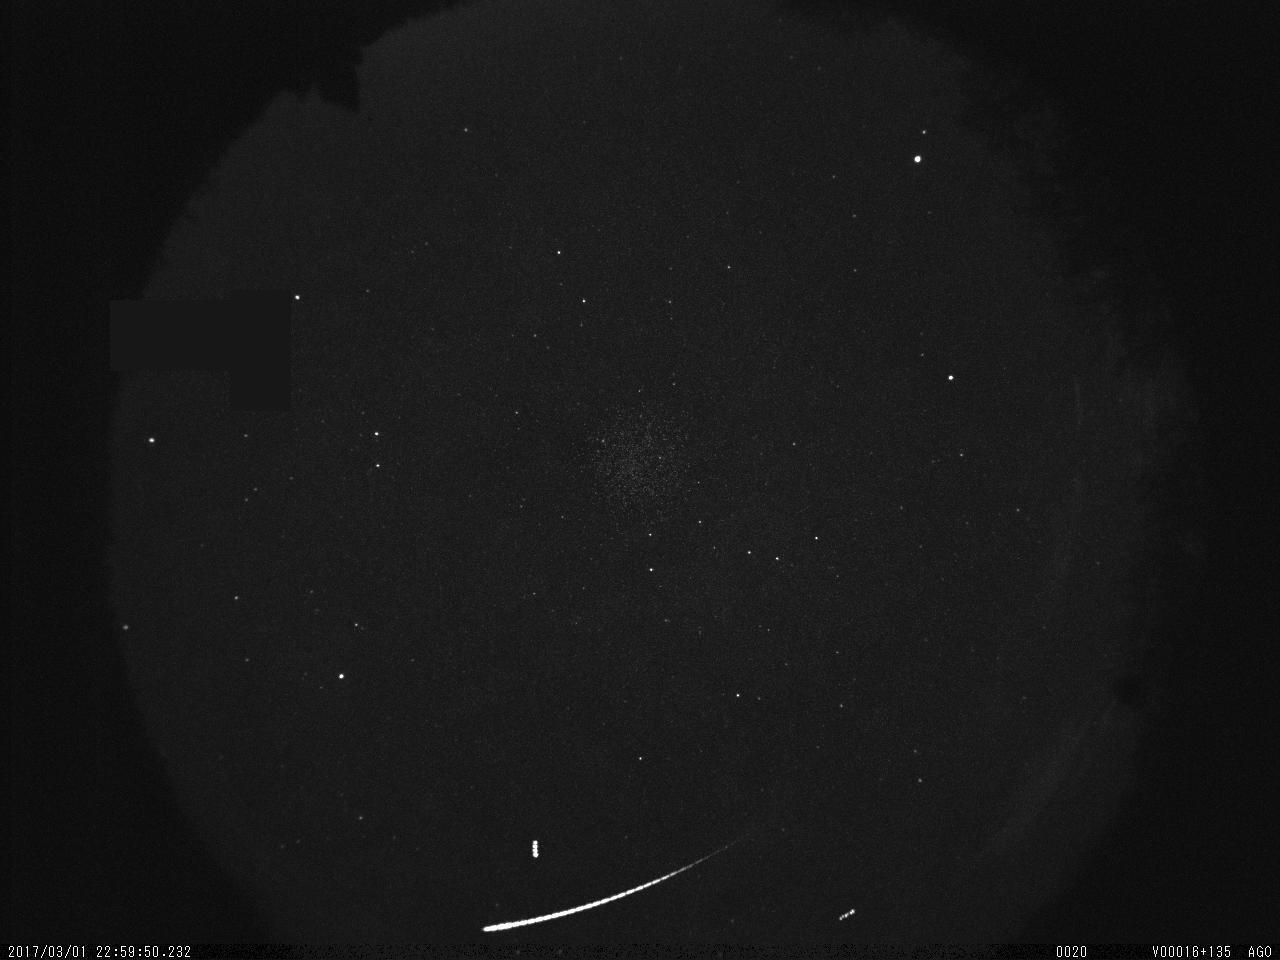meteor: (471, 861, 712, 936)
